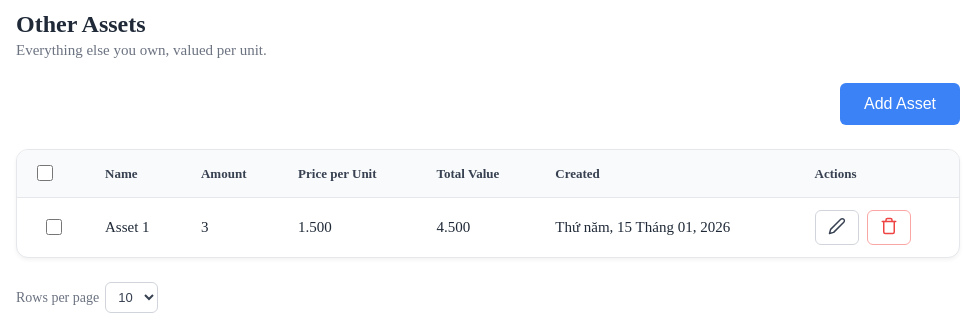
OtherAssets › deletes after confirmation and reloads
The width and height of the screenshot is (977, 330).
Expected: the text "Asset 1" is shown, [89,198,185,257]
Click the button titled "Delete".
click(888, 228)  # box [866,210,910,245]
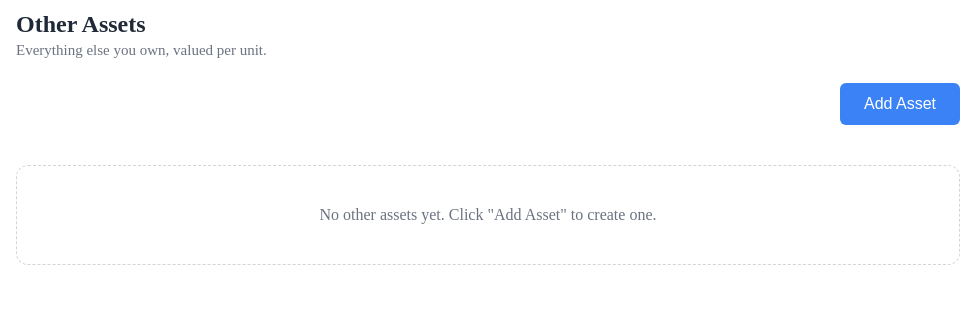
Expected: the text "No other assets yet. Click \"Add Asset\" to create one." is shown, [16,165,960,265]
